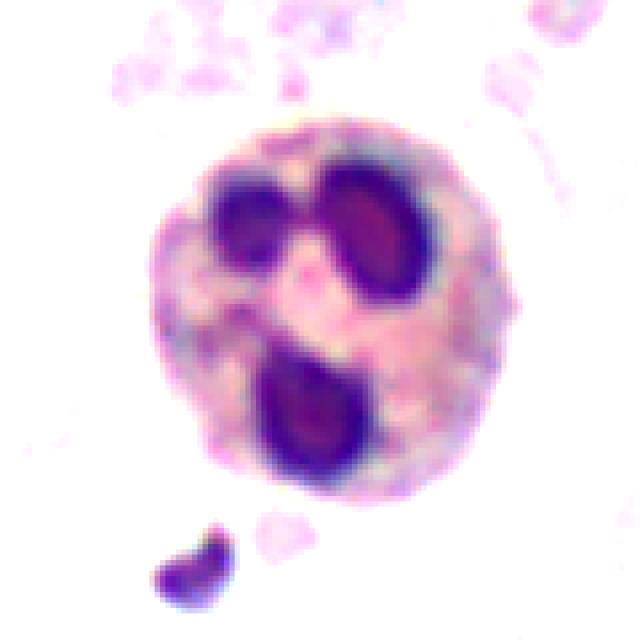WBC: (117, 107, 544, 517)
